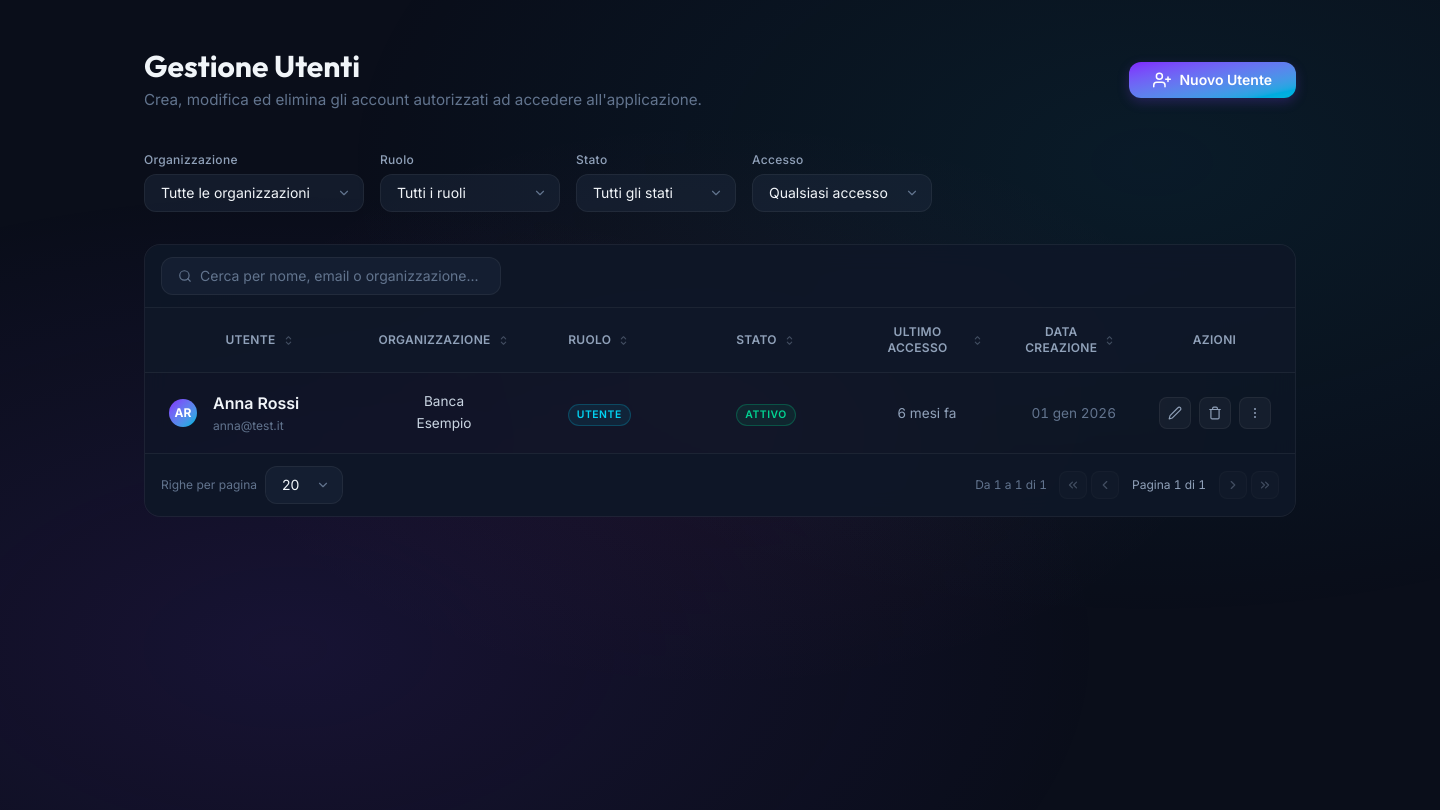
azioni su una riga › elimina un utente dopo la conferma
The image size is (1440, 810).
Click the button named "Elimina anna@test.it" at [1214, 413], box x1=1198 y1=397 x2=1230 y2=429
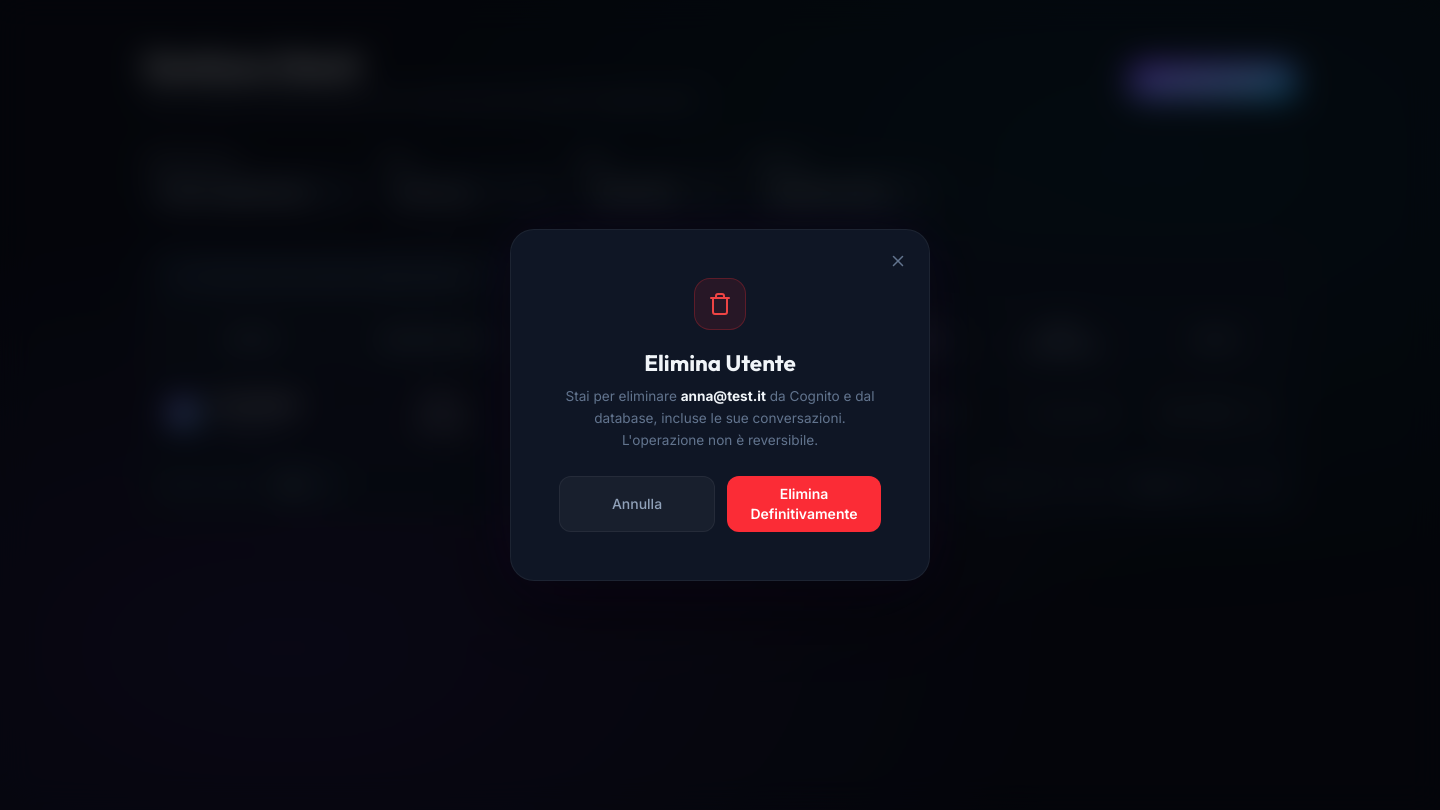
Now the text "non è reversibile" is shown, box x1=594 y1=388 x2=874 y2=448
Click the button "Elimina Definitivamente" at [804, 504], box x1=727 y1=476 x2=881 y2=532
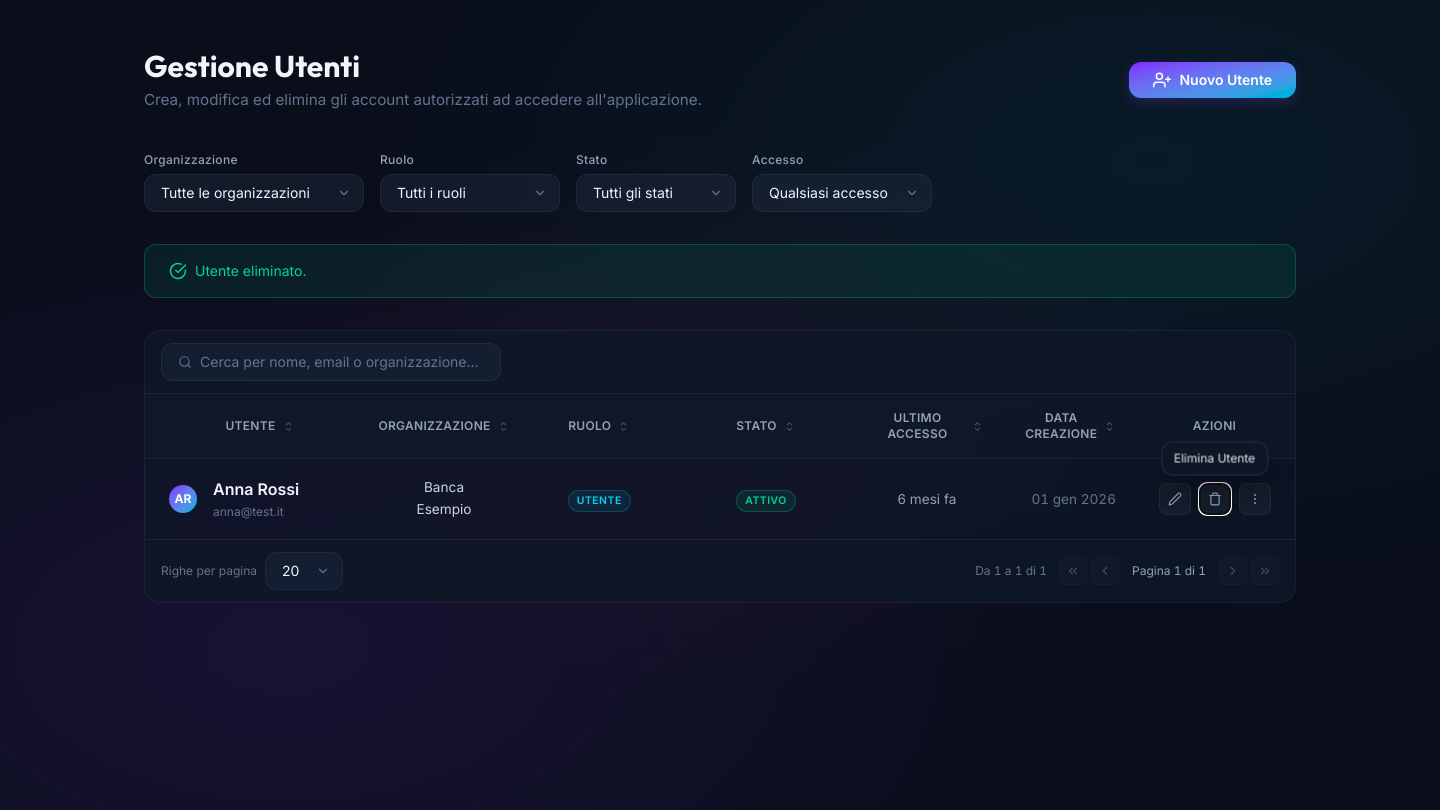
Now the text "Utente eliminato." is shown, box x1=195 y1=261 x2=306 y2=281
